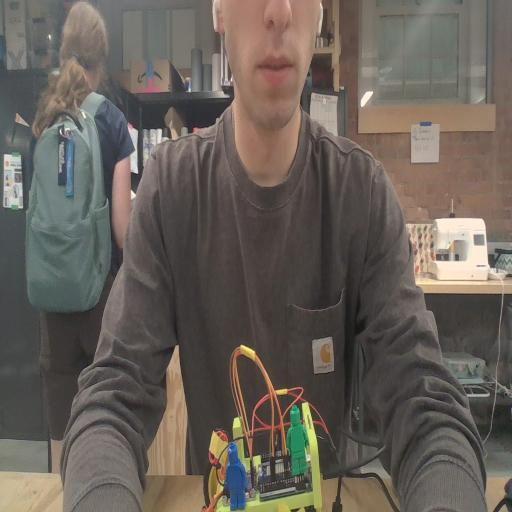blue LEGO minifig: (221, 433, 250, 512)
green LEGO minifig: (284, 401, 310, 482)
